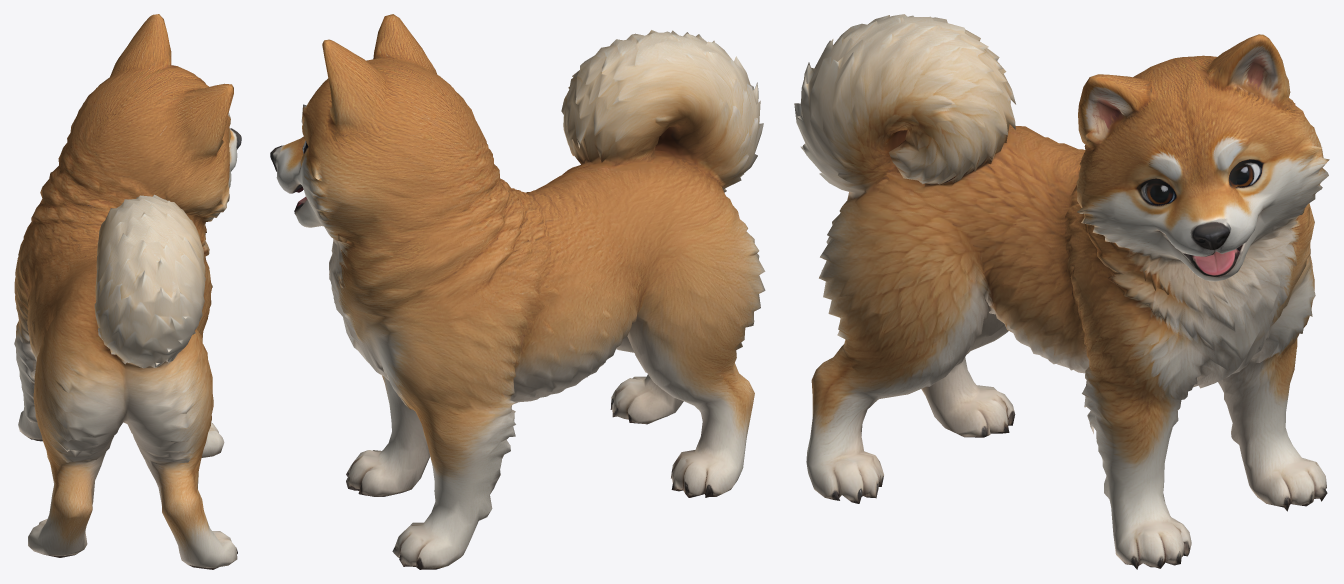
File: shiba.glb
3 views of the same model, side by side, from view 1: azimuth 30°, elevation 25°; view 2: azimuth 150°, elevation 25°; view 3: azimuth 270°, elevation 25° (orthographic). The views are drawn at different scales.
Visible parts, largest first — view 1: tripo_node_2690ee34-174b-4a5e-ad82-90488ff7151a; view 2: tripo_node_2690ee34-174b-4a5e-ad82-90488ff7151a; view 3: tripo_node_2690ee34-174b-4a5e-ad82-90488ff7151a.
Part boxes in pixels (x1,y1,x2,y2): tripo_node_2690ee34-174b-4a5e-ad82-90488ff7151a: (14,14,241,569); tripo_node_2690ee34-174b-4a5e-ad82-90488ff7151a: (270,14,765,569); tripo_node_2690ee34-174b-4a5e-ad82-90488ff7151a: (794,14,1329,569).
Size of the model in its own units: 0.77 by 0.9999 by 0.9258.
1 material, 1 textured.
